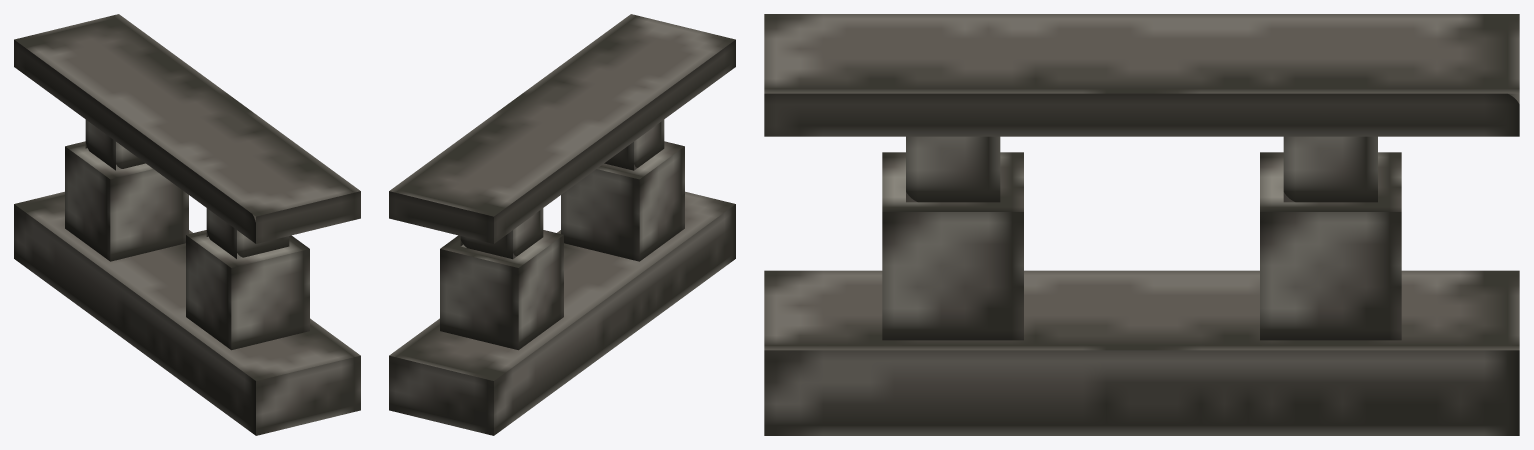
File: Railing_x1.fbx
The picture shows the model from 3 angles, left to right: view 1: azimuth 30°, elevation 25°; view 2: azimuth 150°, elevation 25°; view 3: azimuth 270°, elevation 25°; orthographic projection. The views are drawn at different scales.
Parts seen in each view (by area): view 1: Railing_x1; view 2: Railing_x1; view 3: Railing_x1.
Part boxes in pixels (bbox=[...]): Railing_x1: bbox=[14, 14, 360, 435]; Railing_x1: bbox=[389, 14, 735, 435]; Railing_x1: bbox=[764, 14, 1519, 435].
Size of the model in its own units: 50 by 100 by 200.
Materials: 1 (1 with a texture image).
